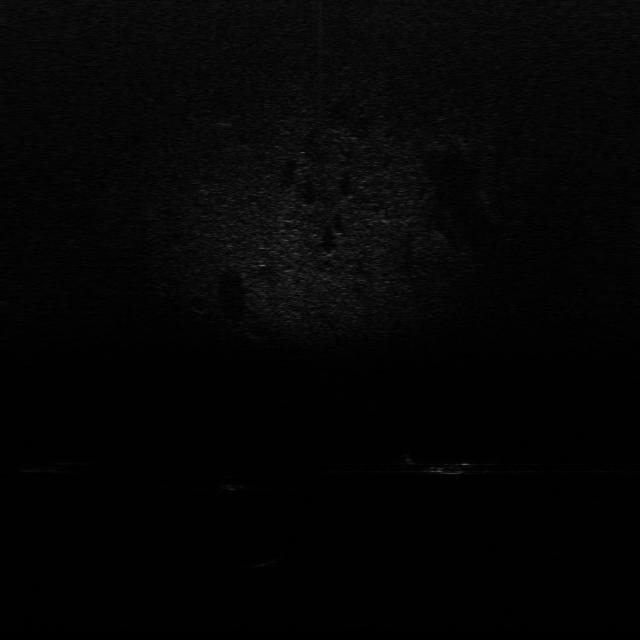ball: (220, 470, 250, 493)
circle cage: (242, 554, 293, 584)
human body: (400, 452, 494, 481)
